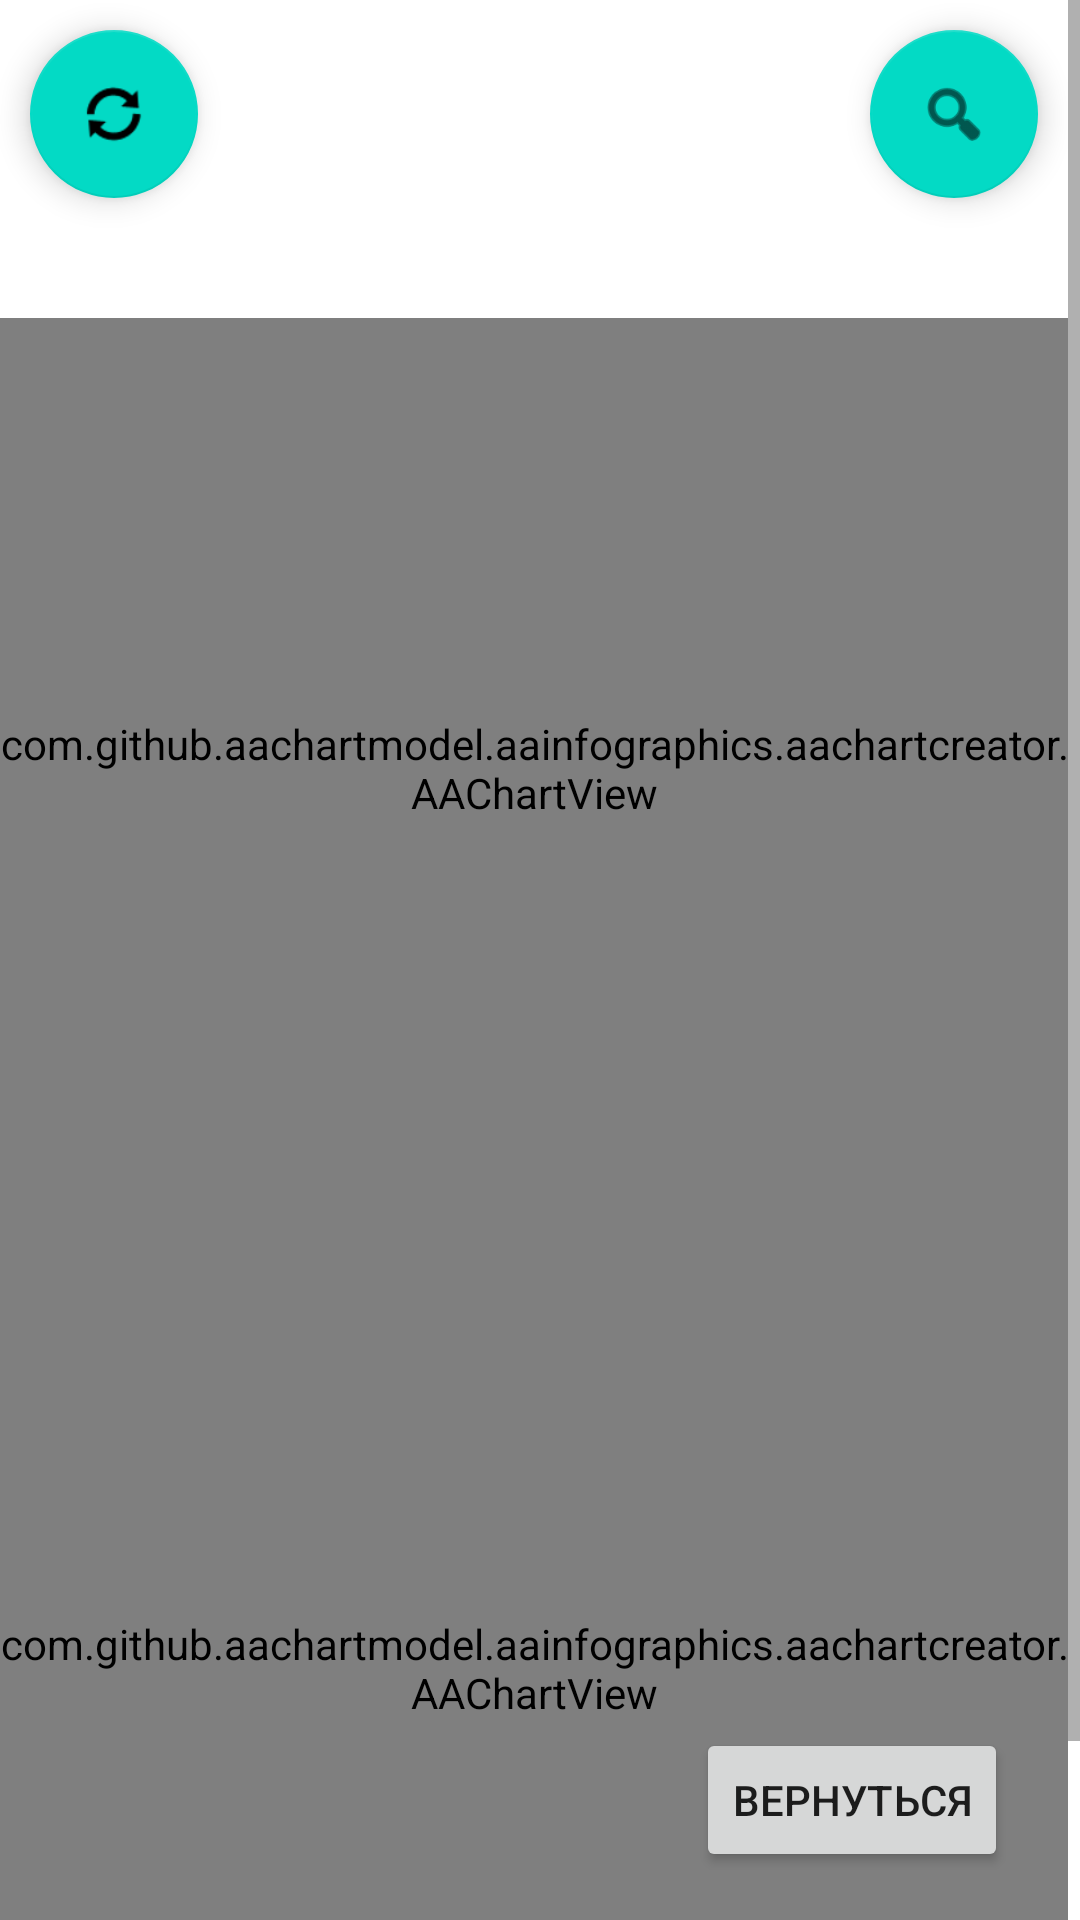

Where icons sit on this 1080px×1920px app screen, as {"left": x1, "top": y1, "right": x2, "bottom": y2}:
popup sync: {"left": 30, "top": 30, "right": 198, "bottom": 198}
search: {"left": 870, "top": 30, "right": 1038, "bottom": 198}
